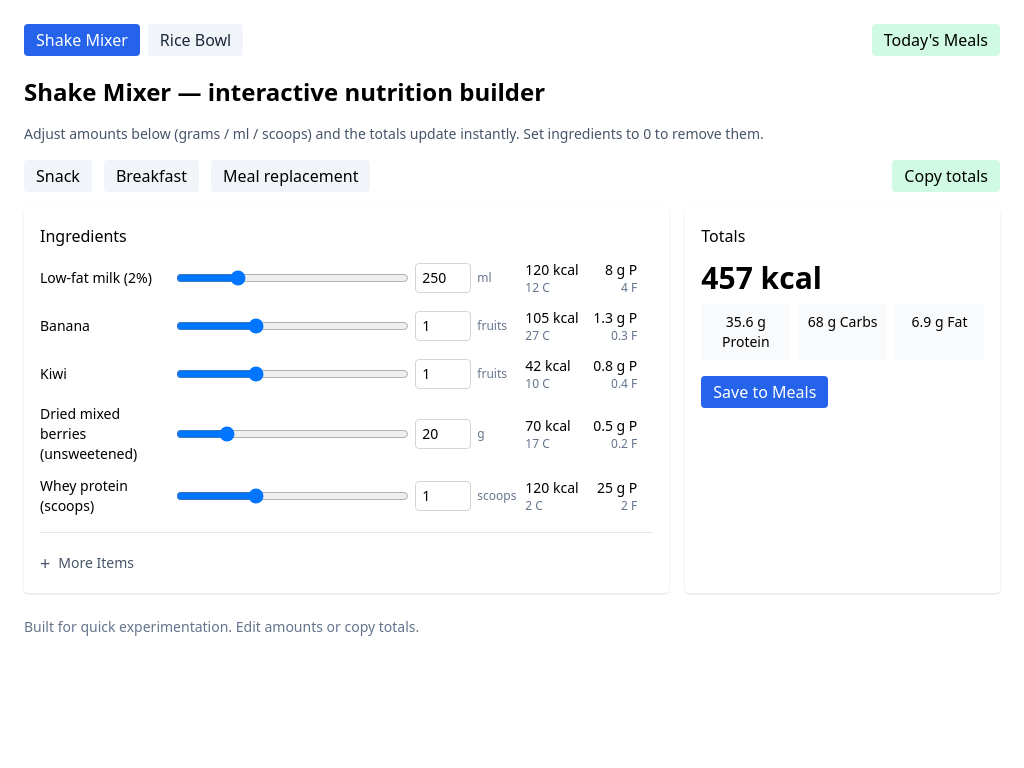
Shake Mixer App › Quick Set Presets › snack preset updates values correctly
Click the button "Snack" at (58, 176), box [24,160,92,192]
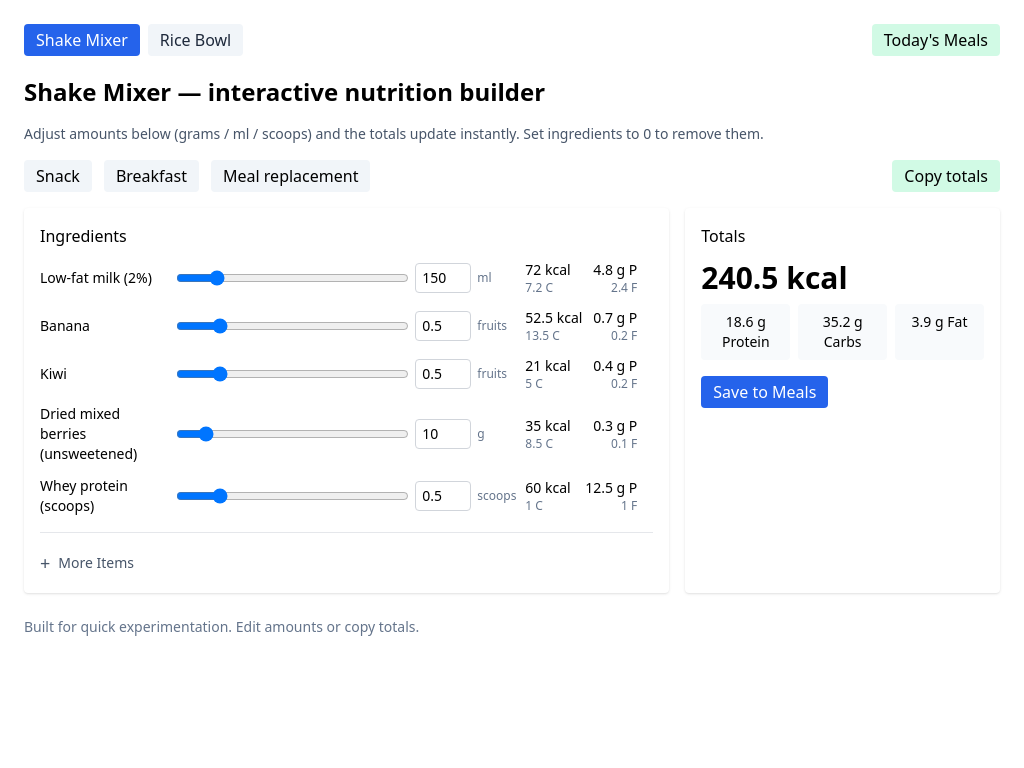
expect the slider named "Low-fat milk (2%)" holds "150": met, box [176,270,409,286]
expect the slider named "Banana" holds "0.5": met, box [176,318,409,334]
expect the slider named "Kiwi" holds "0.5": met, box [176,366,409,382]
